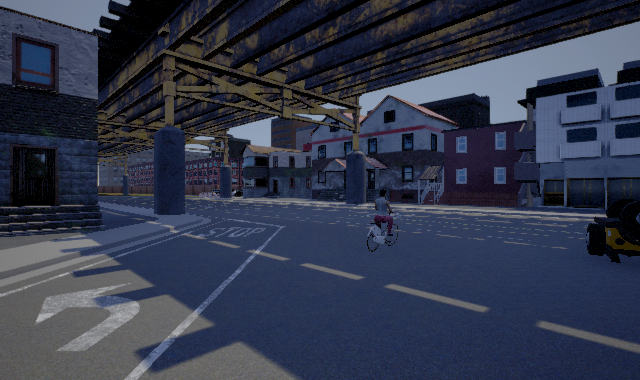bike: (367, 192, 398, 253)
vehicle: (586, 198, 640, 263)
